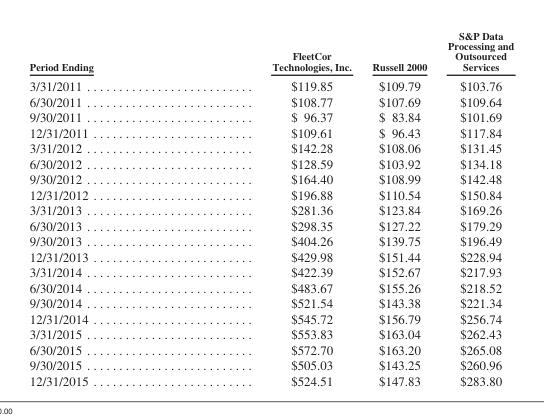table: (28, 29, 513, 387)
table column: (182, 29, 361, 387), (28, 29, 182, 387), (436, 29, 513, 387), (361, 29, 436, 387)
table column header: (28, 29, 513, 75)
table row: (28, 29, 513, 75), (28, 75, 513, 93), (28, 93, 513, 109), (28, 124, 513, 140), (28, 155, 513, 171), (28, 186, 513, 202), (28, 217, 513, 233), (28, 248, 513, 264), (28, 279, 513, 295), (28, 310, 513, 326), (28, 341, 513, 357), (28, 109, 513, 124), (28, 140, 513, 155), (28, 171, 513, 186), (28, 202, 513, 217), (28, 233, 513, 248), (28, 264, 513, 279), (28, 295, 513, 310), (28, 326, 513, 341), (28, 357, 513, 372), (28, 372, 513, 387)
